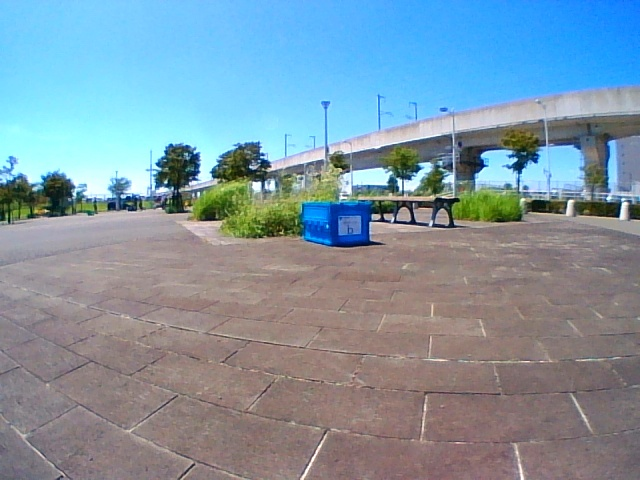blue_box: (303, 203, 369, 242)
tag_b: (339, 216, 360, 235)
